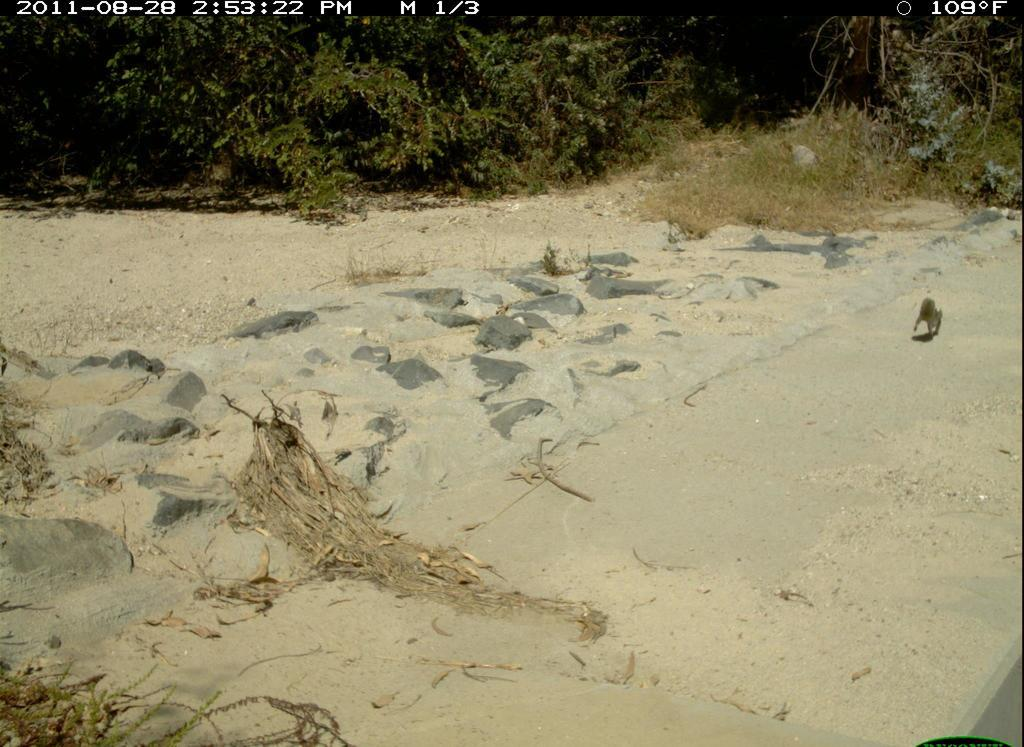squirrel: (914, 295, 953, 350)
